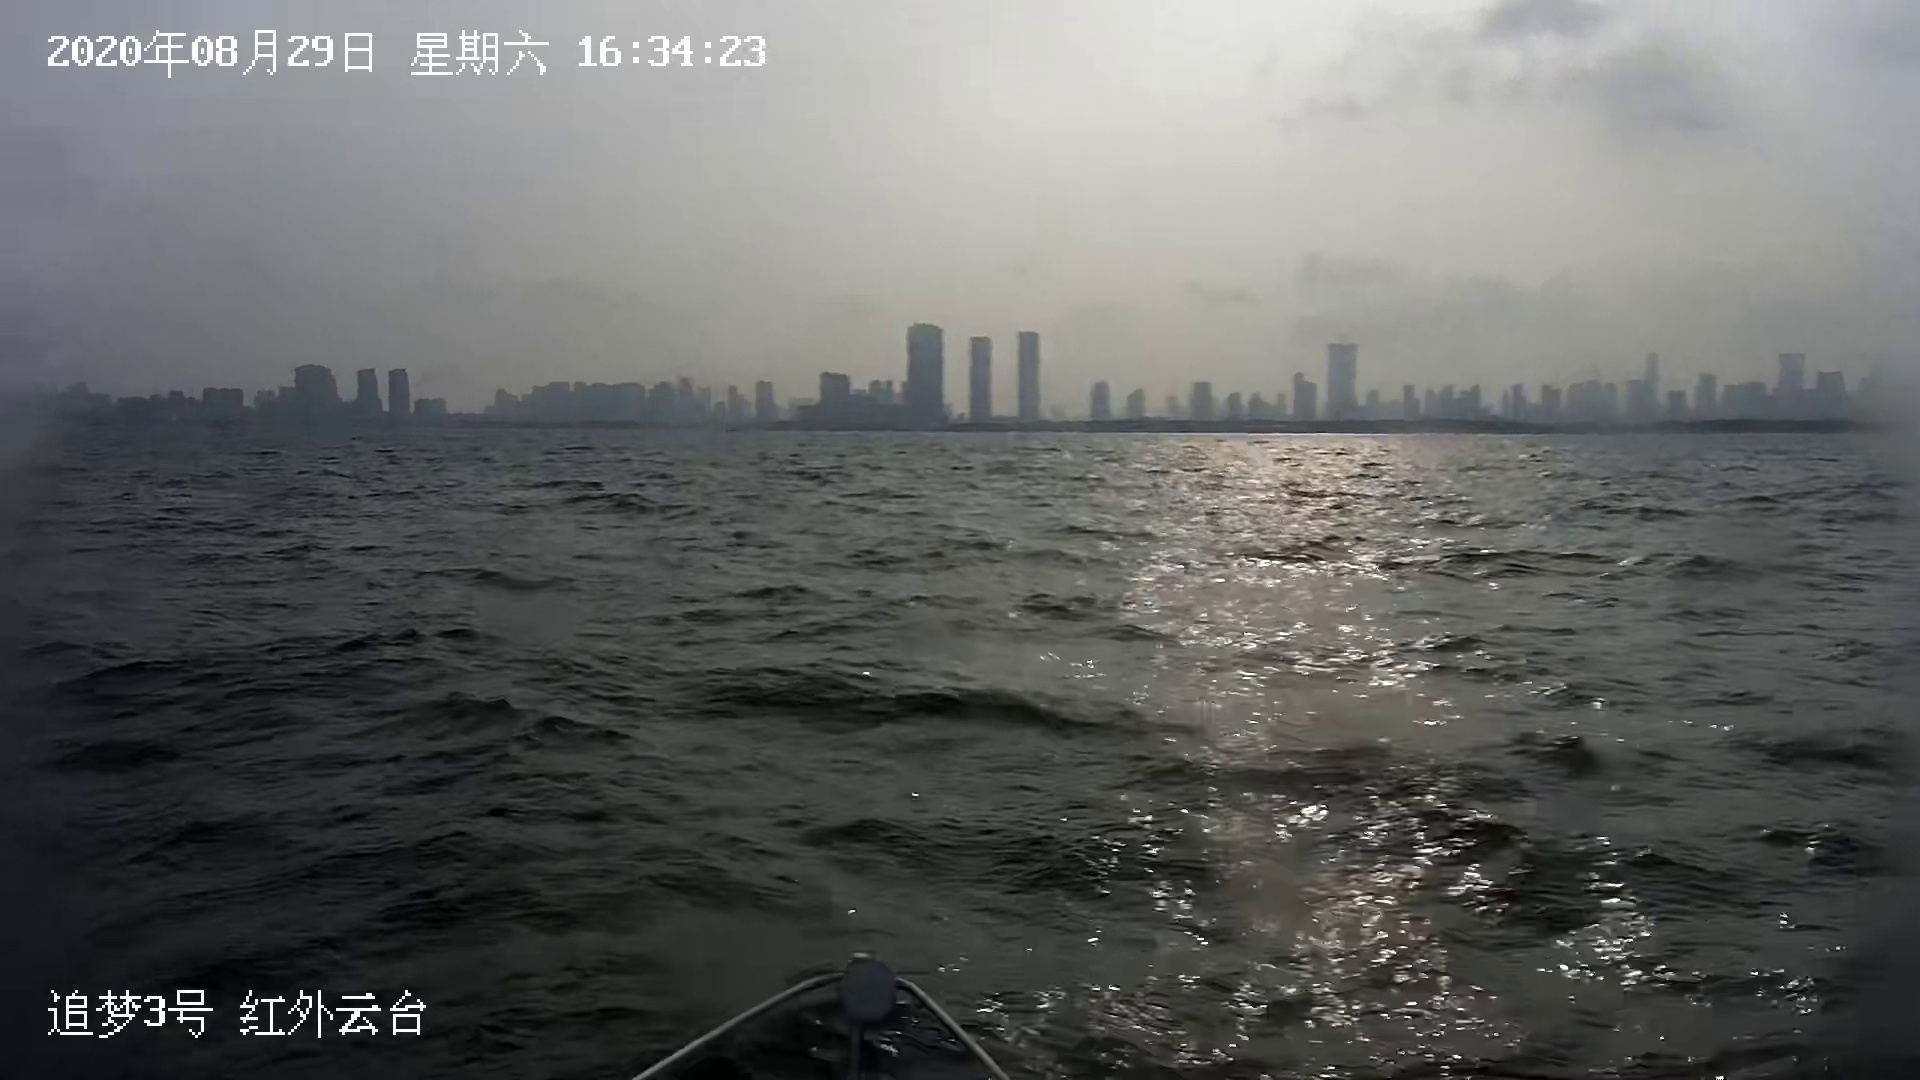coast: (18, 309, 1911, 438)
